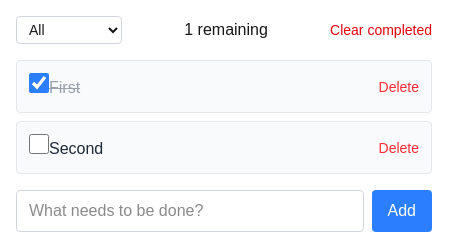
Test: TodoList › should delete completed todos when clear completed button is clicked
Click the button "Clear completed": (381, 30) top-left (330, 20), bottom-right (432, 40)
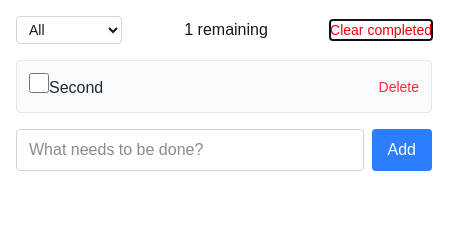
Check: the checkbox labelled "Second" is shown, box top-left (29, 73), bottom-right (49, 93)
Check: the text "First" is gone
